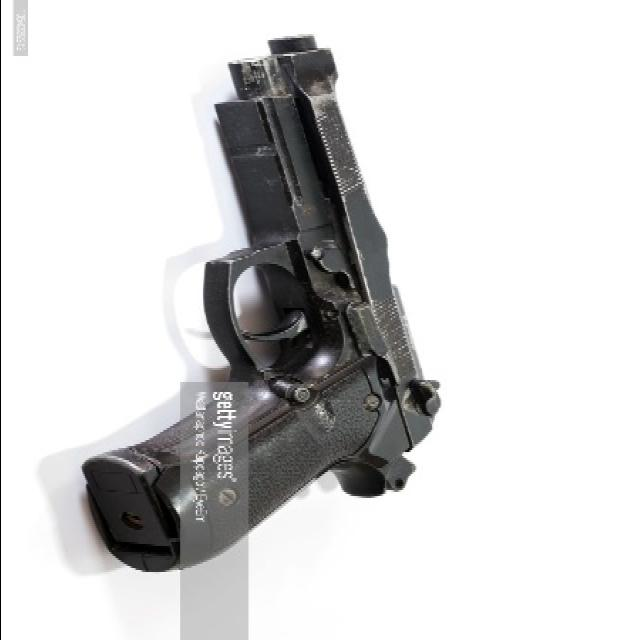handgun: (81, 27, 451, 577)
